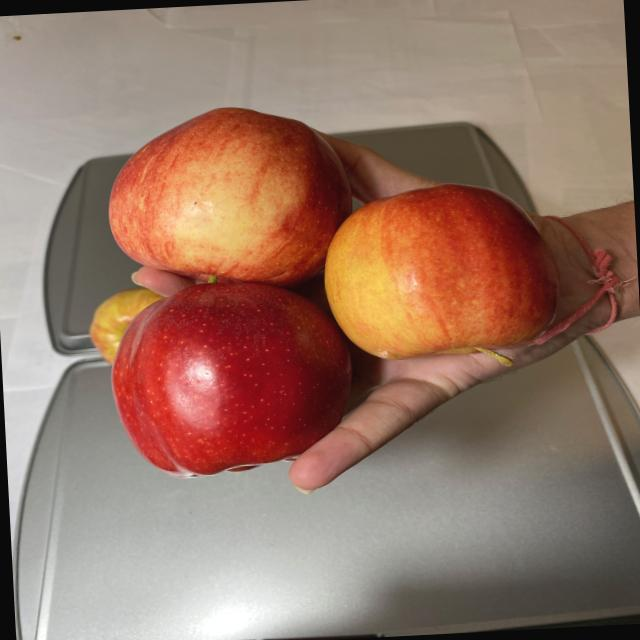apple: (75, 87, 578, 484)
